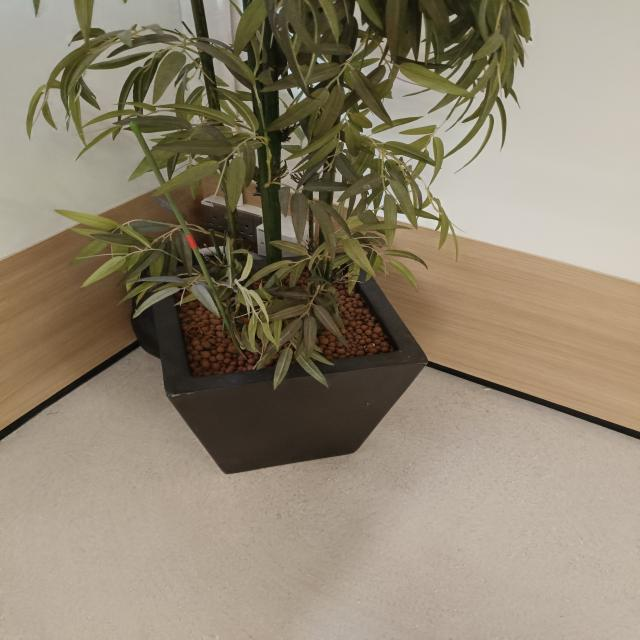Pot: (147, 249, 431, 474)
